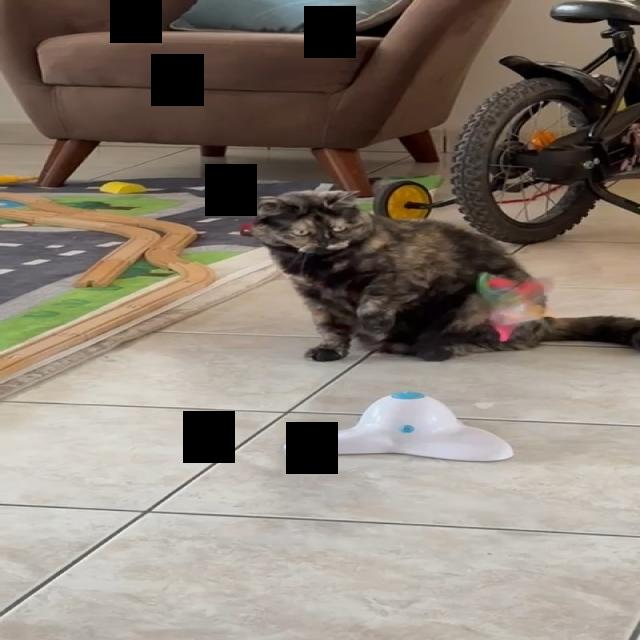authorized: (248, 189, 639, 362)
